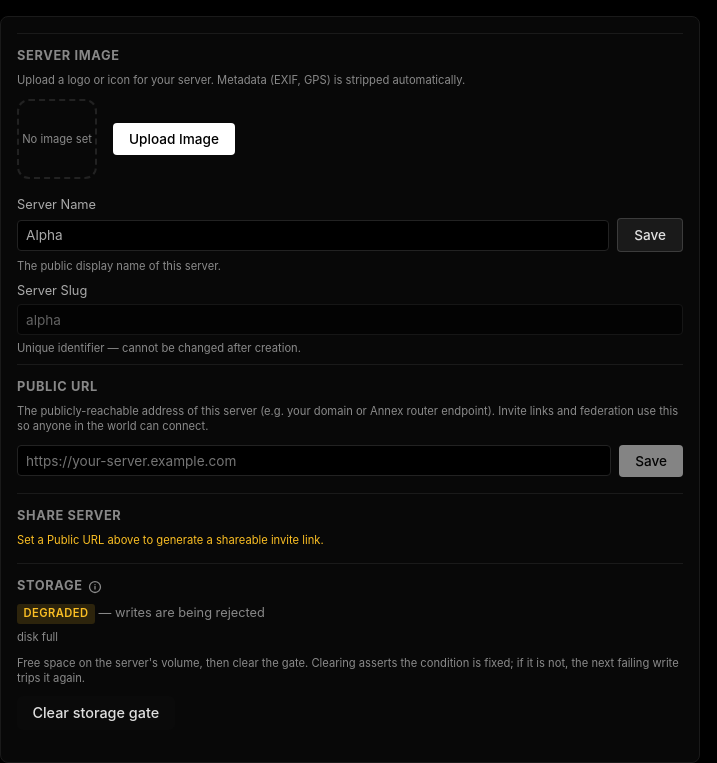
AdminPanel storage gate › says so when the clear itself fails, and leaves the gate showing tripped
(page scrolled)
Check: the field showing "Alpha" is shown, box left=17, top=220, right=609, bottom=250
Click the button "Clear storage gate": (96, 713) left=17, top=696, right=174, bottom=730
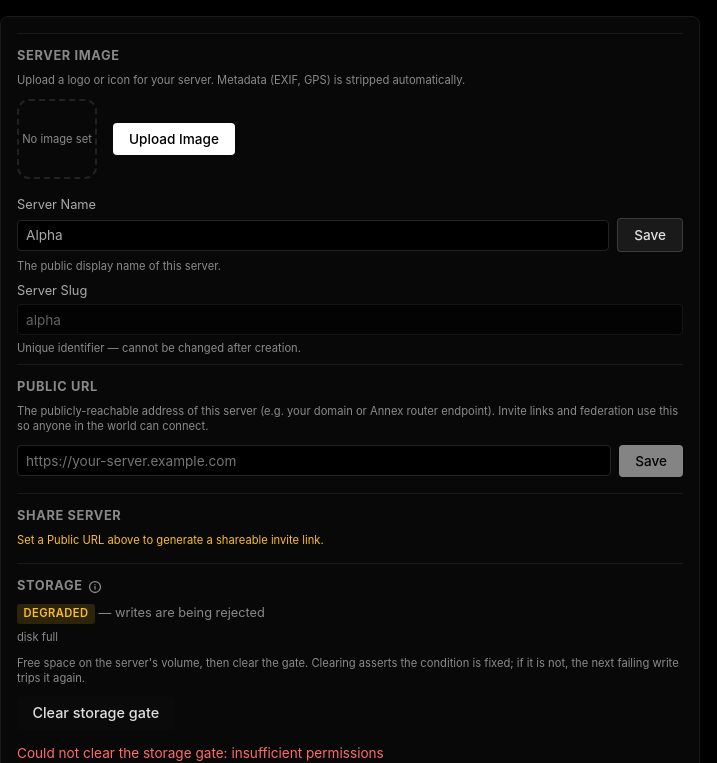
Check: the text "degraded" is shown, box left=17, top=604, right=95, bottom=624
Check: the text "Could not clear the storage gate: insufficient permissions" is shown, box left=17, top=745, right=384, bottom=761
